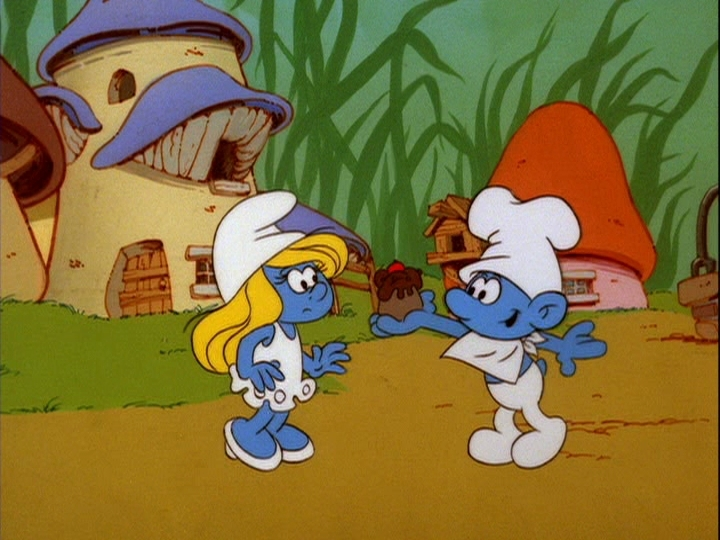smurf: (406, 187, 605, 466), (187, 191, 356, 472)
